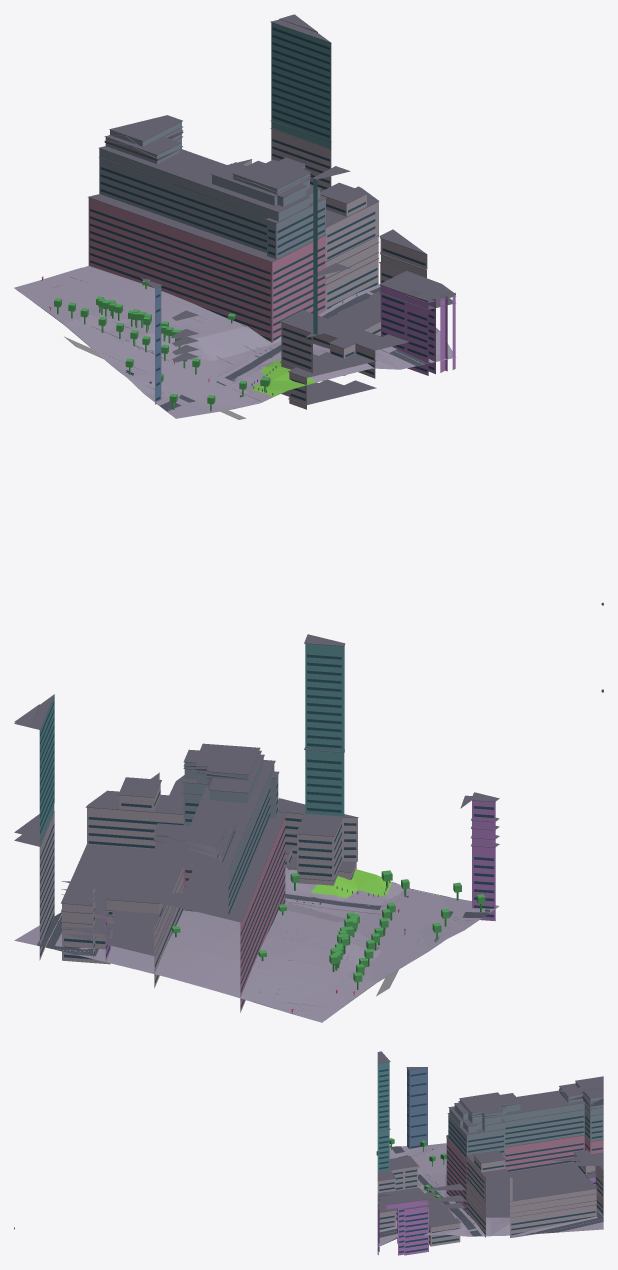
The picture shows the model from 3 angles, top to bottom: view 1: azimuth 30°, elevation 25°; view 2: azimuth 150°, elevation 25°; view 3: azimuth 270°, elevation 25°; orthographic projection. The views are drawn at different scales.
Parts seen in each view (by area): view 1: compiled-chunk; view 2: compiled-chunk; view 3: compiled-chunk.
Part boxes in pixels (x1,y1,x2,y2): compiled-chunk: (14,14,603,605); compiled-chunk: (14,634,603,1022); compiled-chunk: (14,1051,603,1255).
Size of the model in its own units: 120 by 104 by 313.
